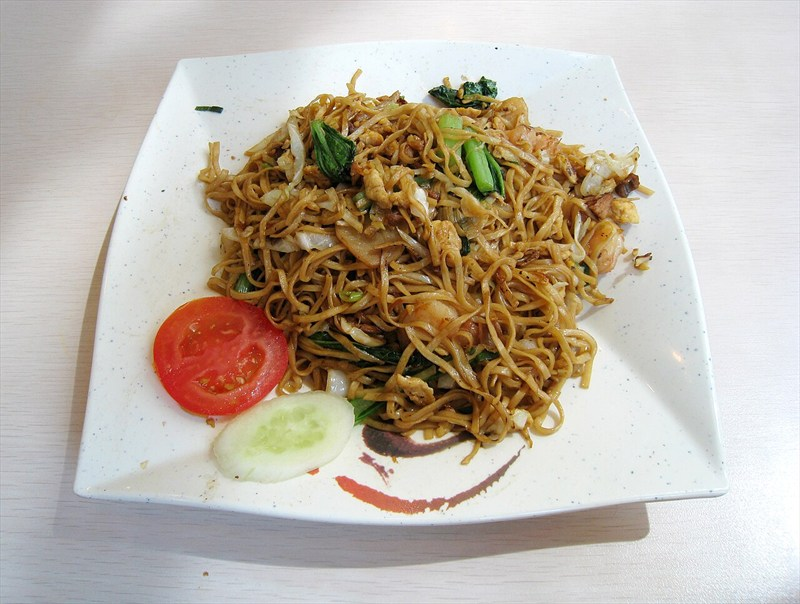Mie Goreng: (172, 95, 608, 454)
